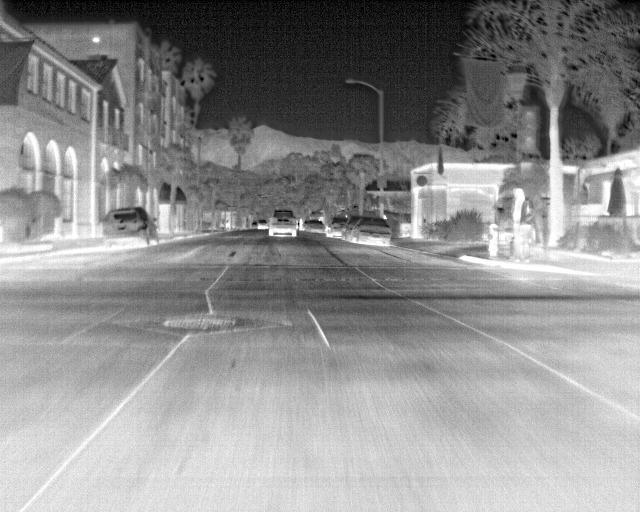bicycle: (102, 206, 158, 247), (349, 217, 391, 245), (268, 209, 297, 237), (340, 217, 361, 241), (329, 216, 348, 238), (304, 219, 324, 233), (254, 218, 270, 231)
empty: (510, 186, 533, 261), (297, 216, 306, 231)
